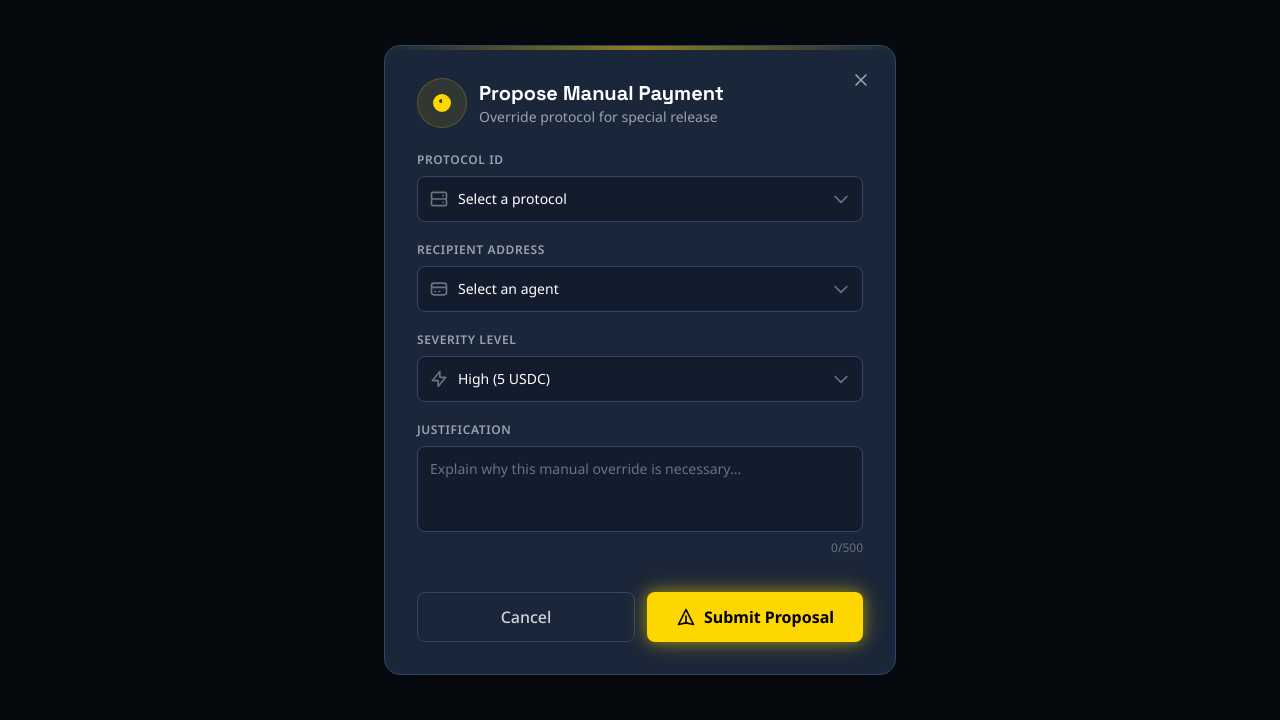
Test case: ProposePaymentModal › validates agent must be selected
The image size is (1280, 720).
Note: Fill everything except agent
Select "Uniswap V3 (proto-1...)" in the dropdown below "Protocol ID": (640, 199) [417,176,863,222]
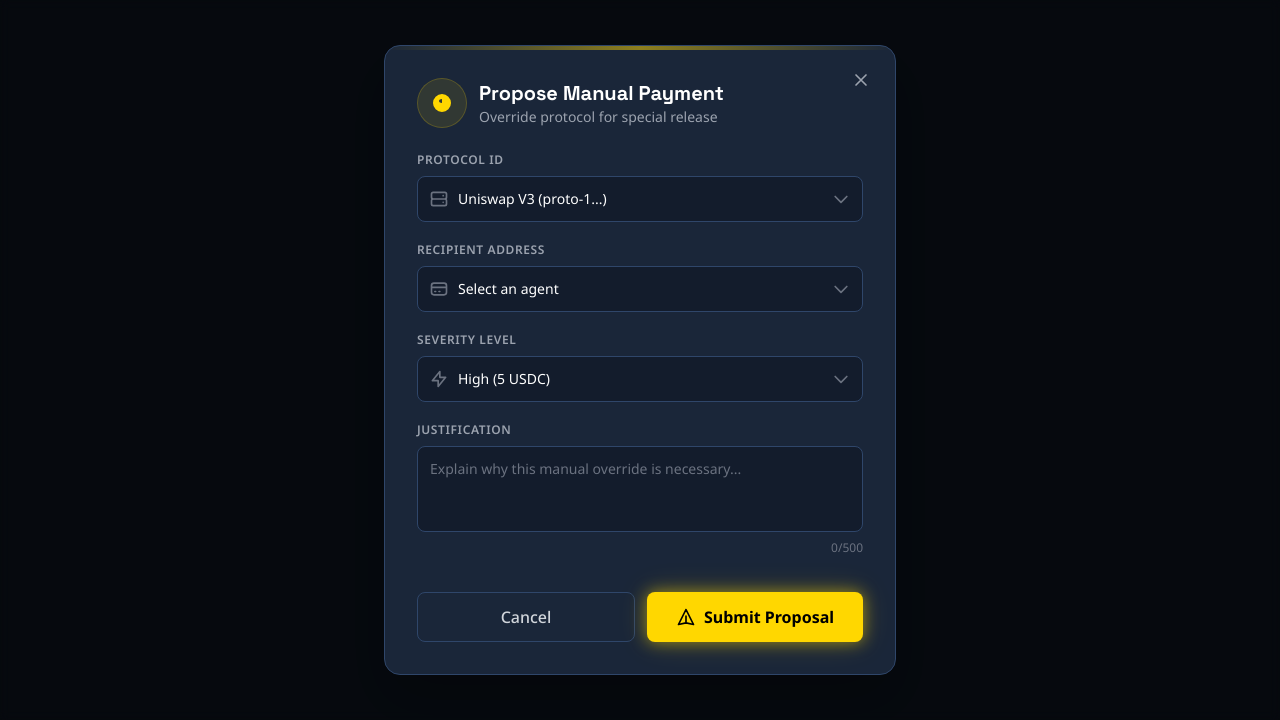
In the text box with placeholder "Explain why this manual override is necessary...": (640, 489) [417,446,863,532], type "This is a valid justification that is long enough to pass validation"
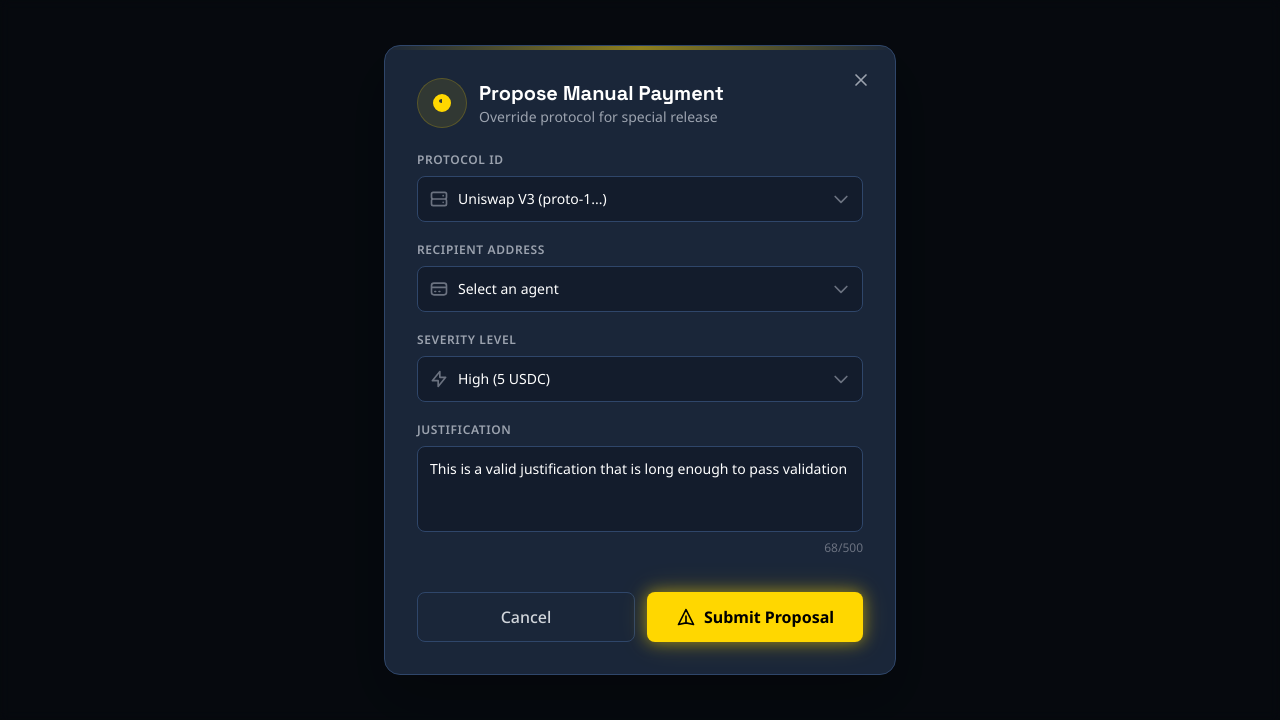
Click the button "Submit Proposal": (755, 617) [647,592,863,642]
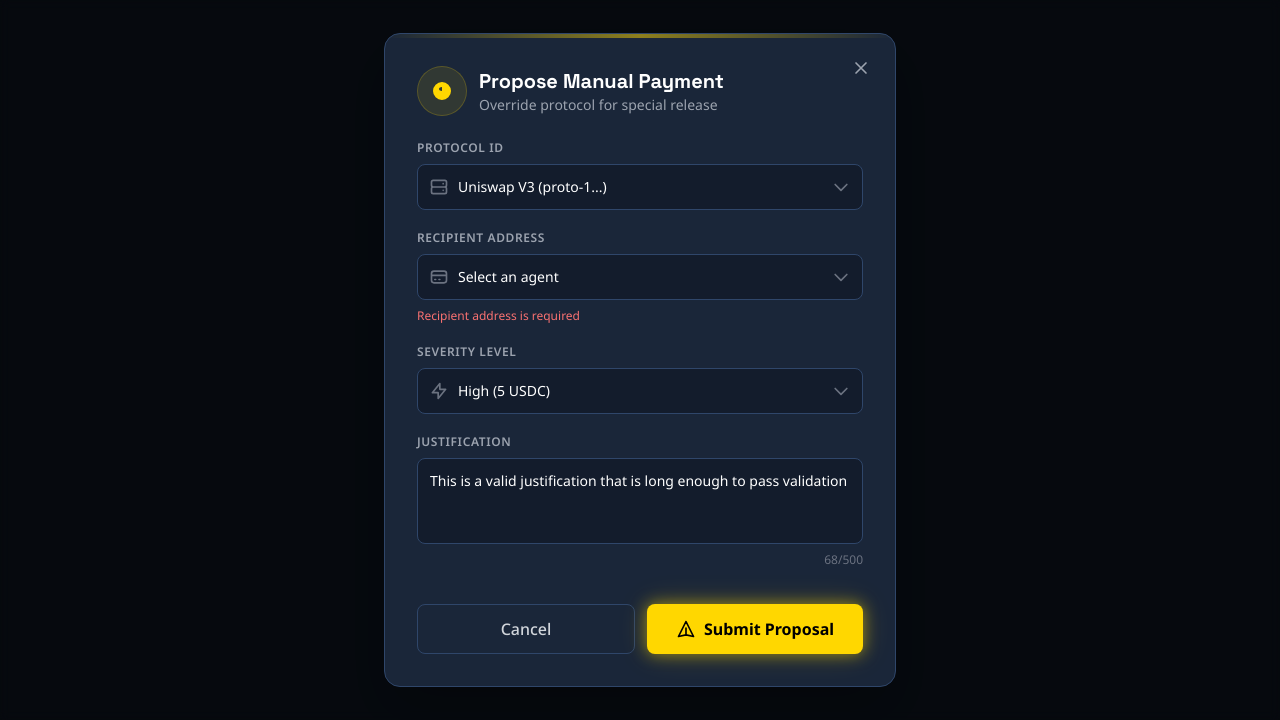
Result: the text "Recipient address is required" is shown at [417,307,580,324]
